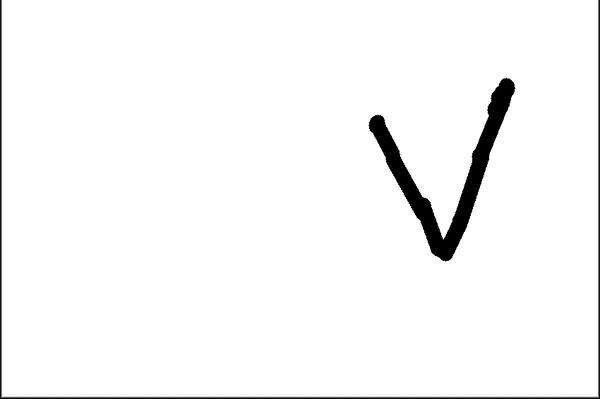V: (358, 66, 537, 265)
